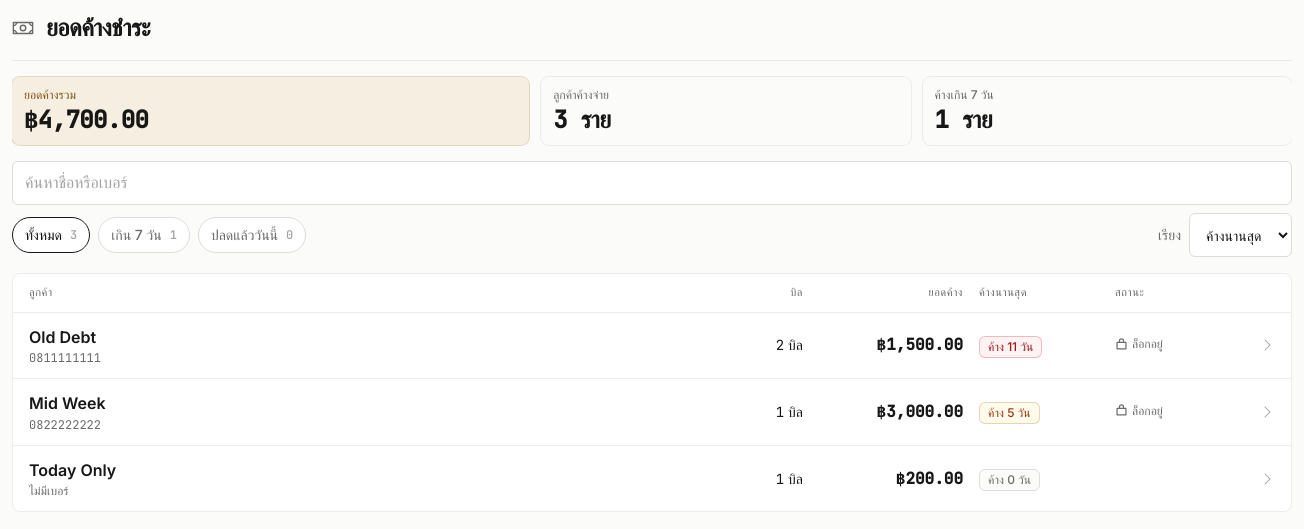
Test: search narrows by name or phone
Expected: the text "Old Debt" is shown, x1=29 y1=327 x2=96 y2=347
Step 1. Type "0811" into the field with placeholder "ค้นหาชื่อหรือเบอร์" → (652, 183), box x1=12 y1=161 x2=1292 y2=205
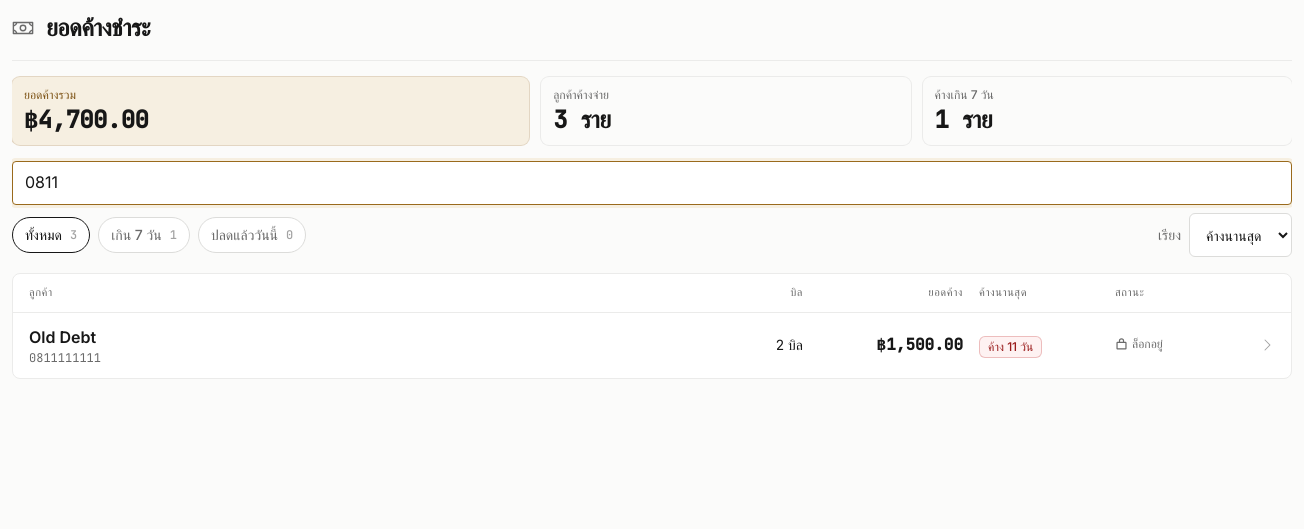
Expected: the button "Today Only" is gone
Expected: the button "Mid Week" is gone
